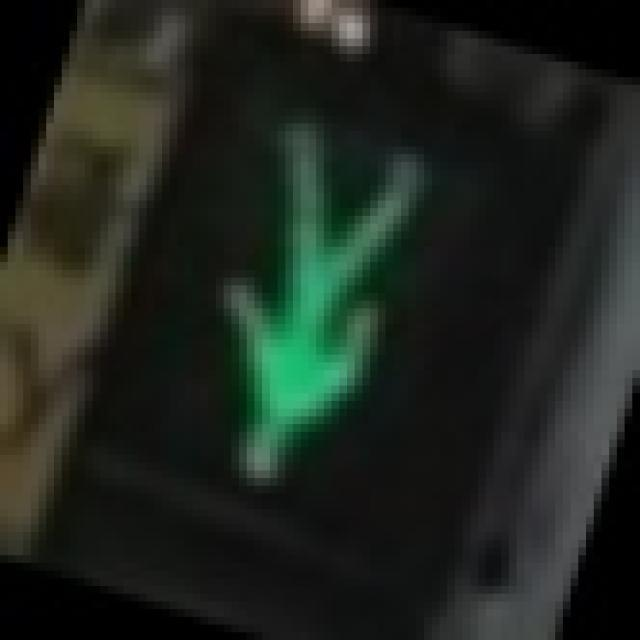green-light: (63, 47, 557, 572)
